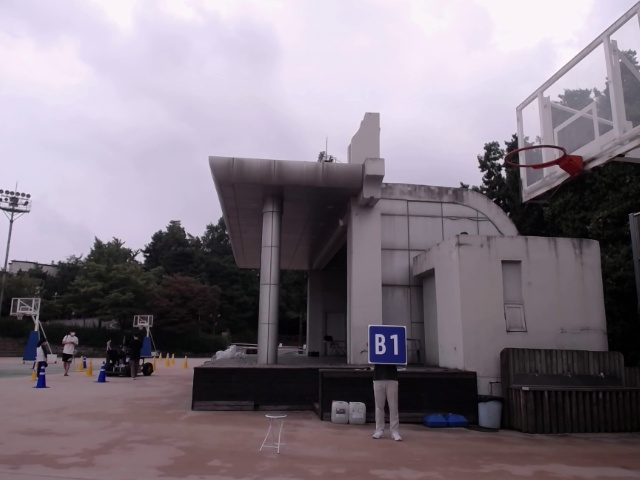delivery_b1: (367, 324, 407, 365)
